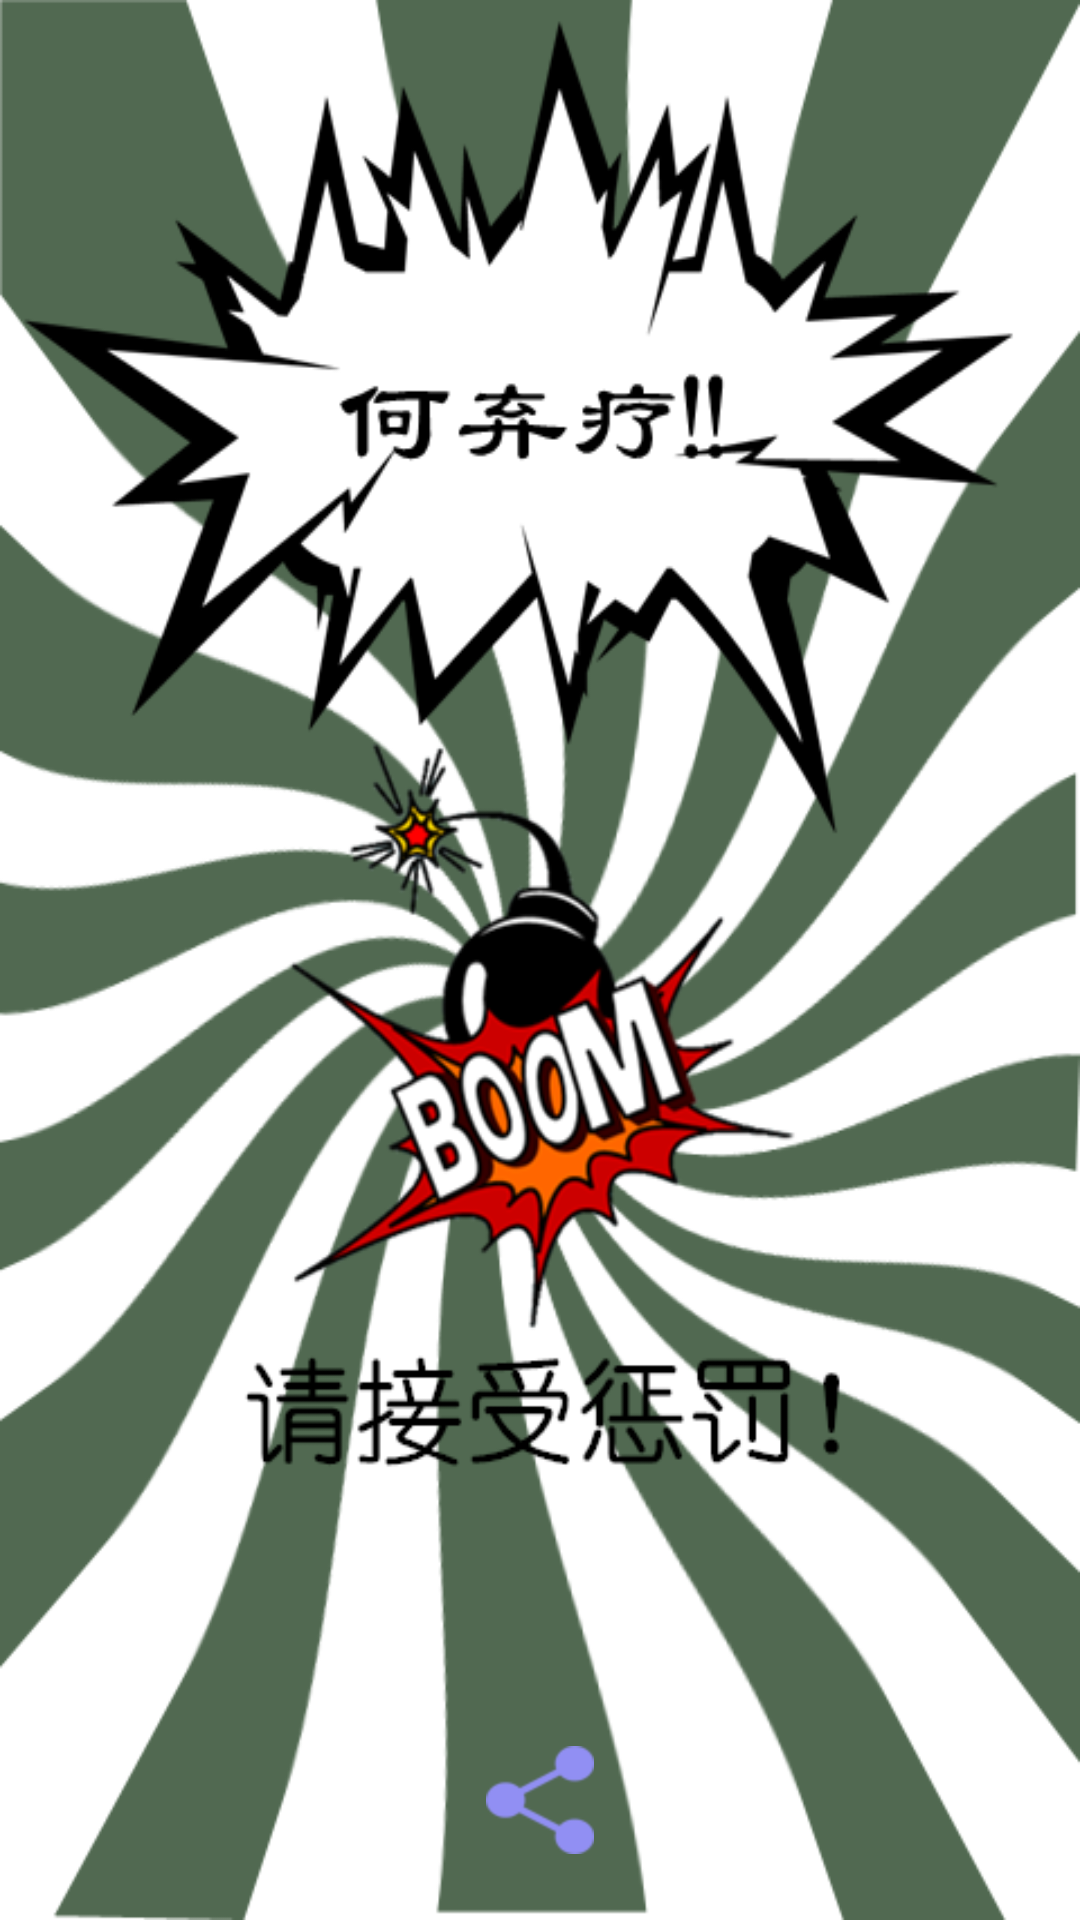

Screen size 1080px x 1920px. Icon name, then its box in pixels as (x1, y1, x2, y2):
share: (486, 1746, 594, 1854)
